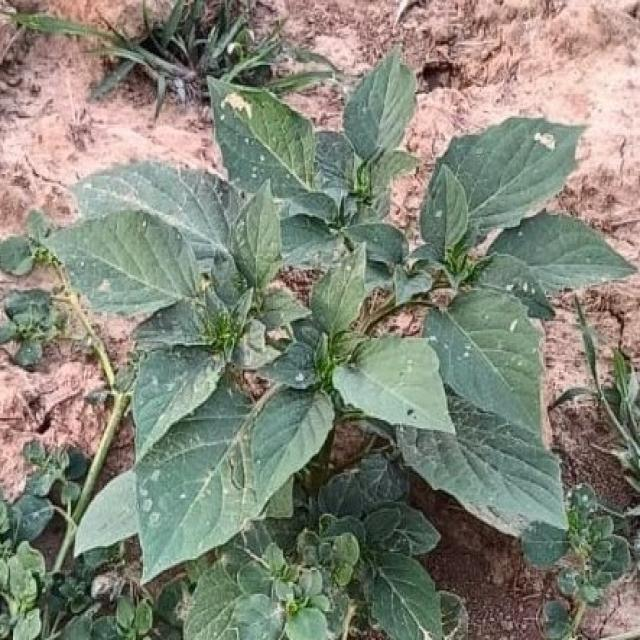weed: (43, 53, 634, 640)
